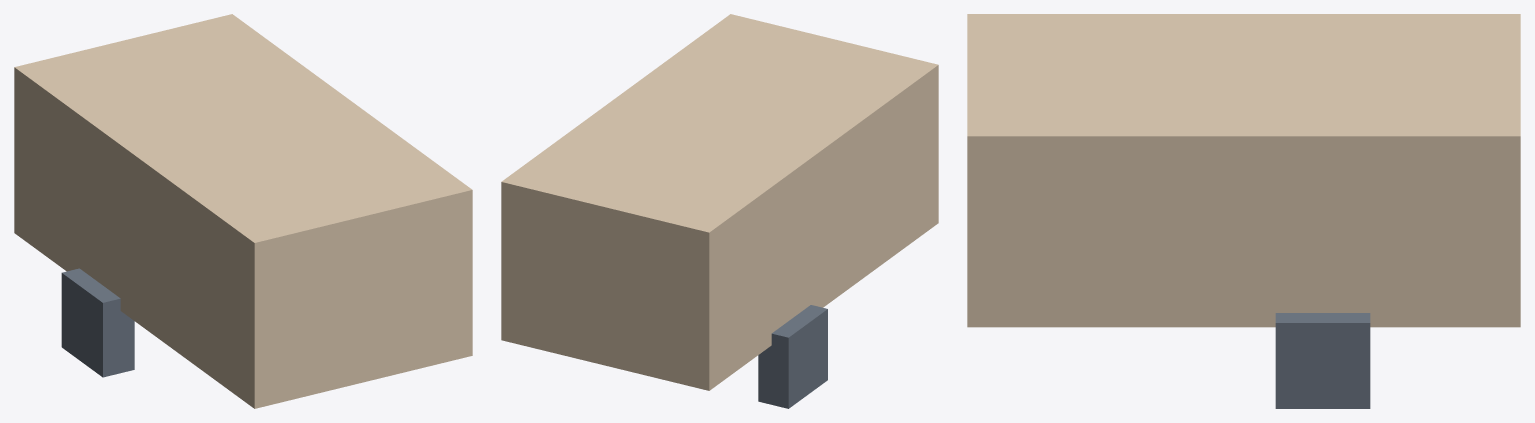
The model's file is cart_01_lo2.glb.
3 views of the same model, side by side, from view 1: azimuth 30°, elevation 25°; view 2: azimuth 150°, elevation 25°; view 3: azimuth 270°, elevation 25° (orthographic). The views are drawn at different scales.
Parts seen in each view (by area): view 1: cart_01_lo2; view 2: cart_01_lo2; view 3: cart_01_lo2.
Boxes of the visible parts, x1=… form: cart_01_lo2: x1=14, y1=14, x2=472, y2=408; cart_01_lo2: x1=501, y1=14, x2=938, y2=408; cart_01_lo2: x1=967, y1=14, x2=1520, y2=408.
Bounding box in the file's own units: 0.64 × 0.55 × 1.05.
